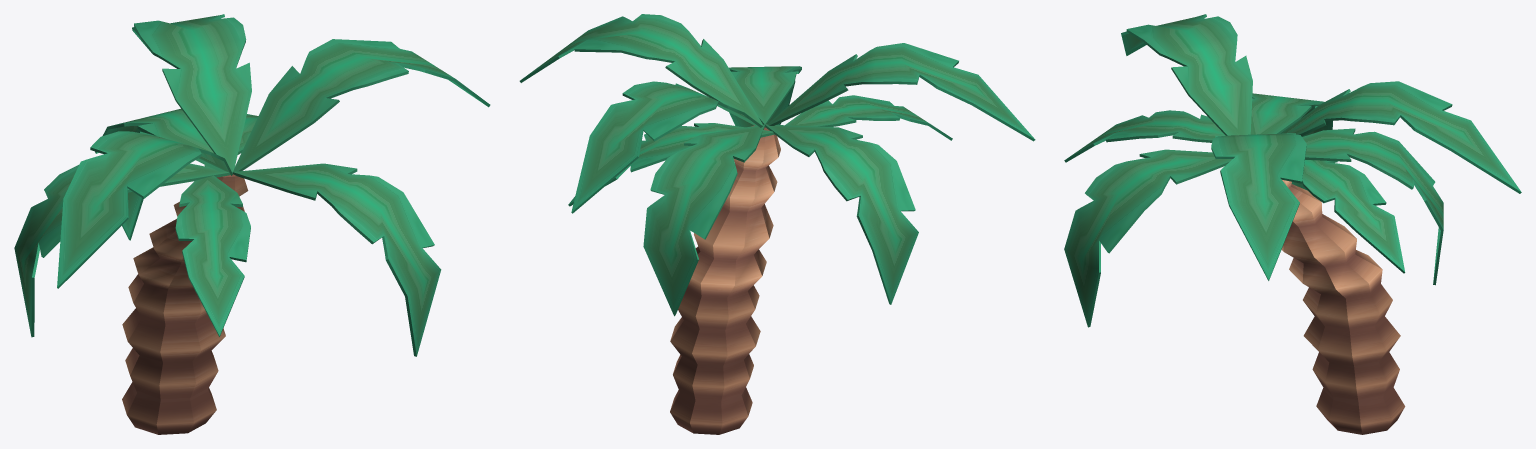
File: PalmTreeThickLeaves.fbx
3 renders of one model, left to right at view 1: azimuth 30°, elevation 25°; view 2: azimuth 150°, elevation 25°; view 3: azimuth 270°, elevation 25°, orthographic. The views are drawn at different scales.
Visible parts, largest first — view 1: Palm; view 2: Palm; view 3: Palm.
Part boxes in pixels (bbox=[...]): Palm: bbox=[14, 14, 490, 434]; Palm: bbox=[519, 14, 1035, 434]; Palm: bbox=[1064, 14, 1521, 434].
Bounding box in the file's own units: 646 × 445 × 551.
